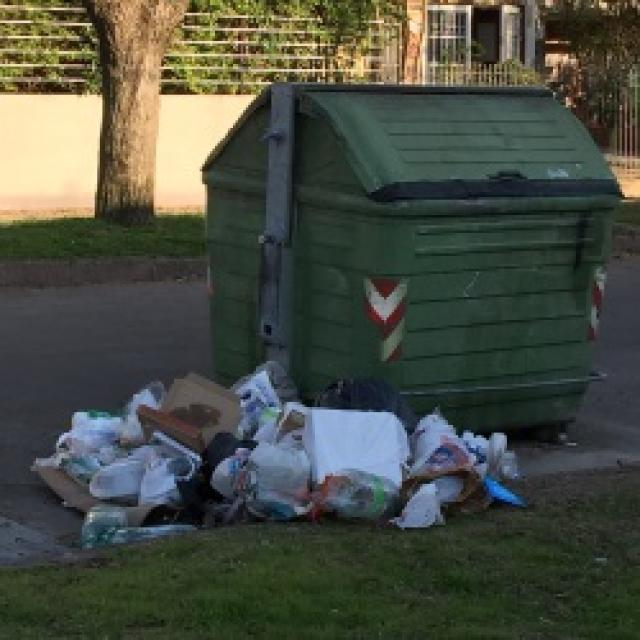garbage: (64, 376, 486, 538)
